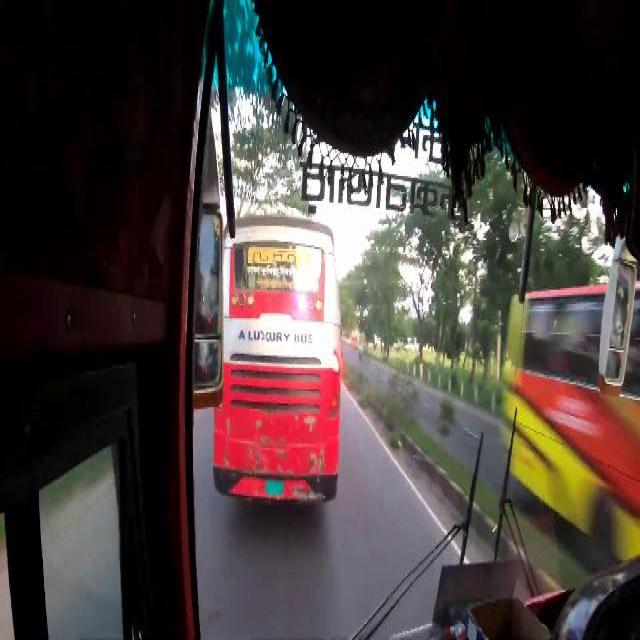bus: (502, 295, 640, 558), (218, 218, 338, 500)
